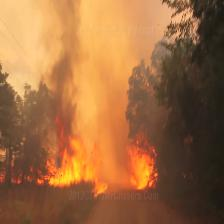fire: (0, 128, 195, 208)
smoke: (26, 0, 214, 123)
